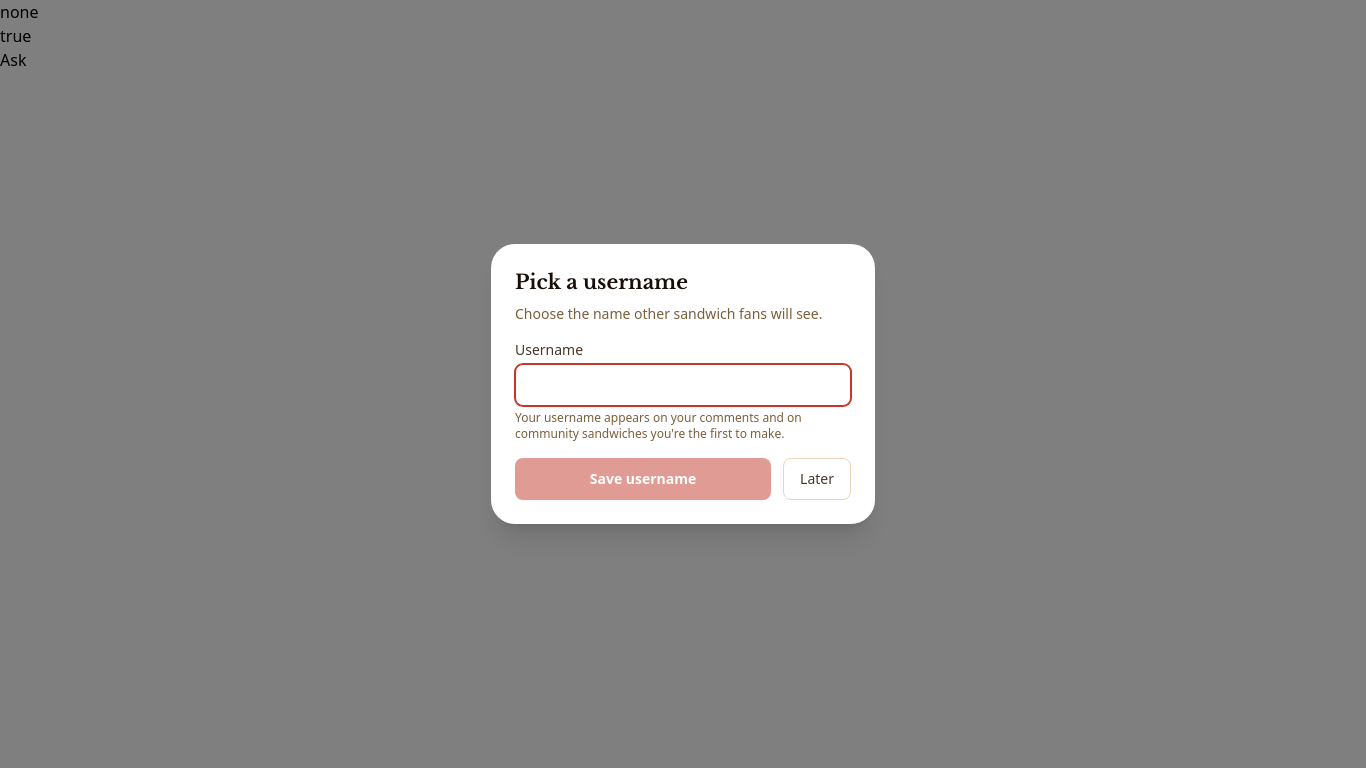
Test case: UsernameProvider for someone without a username › shows why saving failed and stays open
The width and height of the screenshot is (1366, 768).
Expected: the dialog "Pick a username" is shown, top-left (491, 244), bottom-right (875, 524)
Type "sandwich_fan" into the field labelled "Username" at (683, 385), box top-left (515, 364), bottom-right (851, 406)
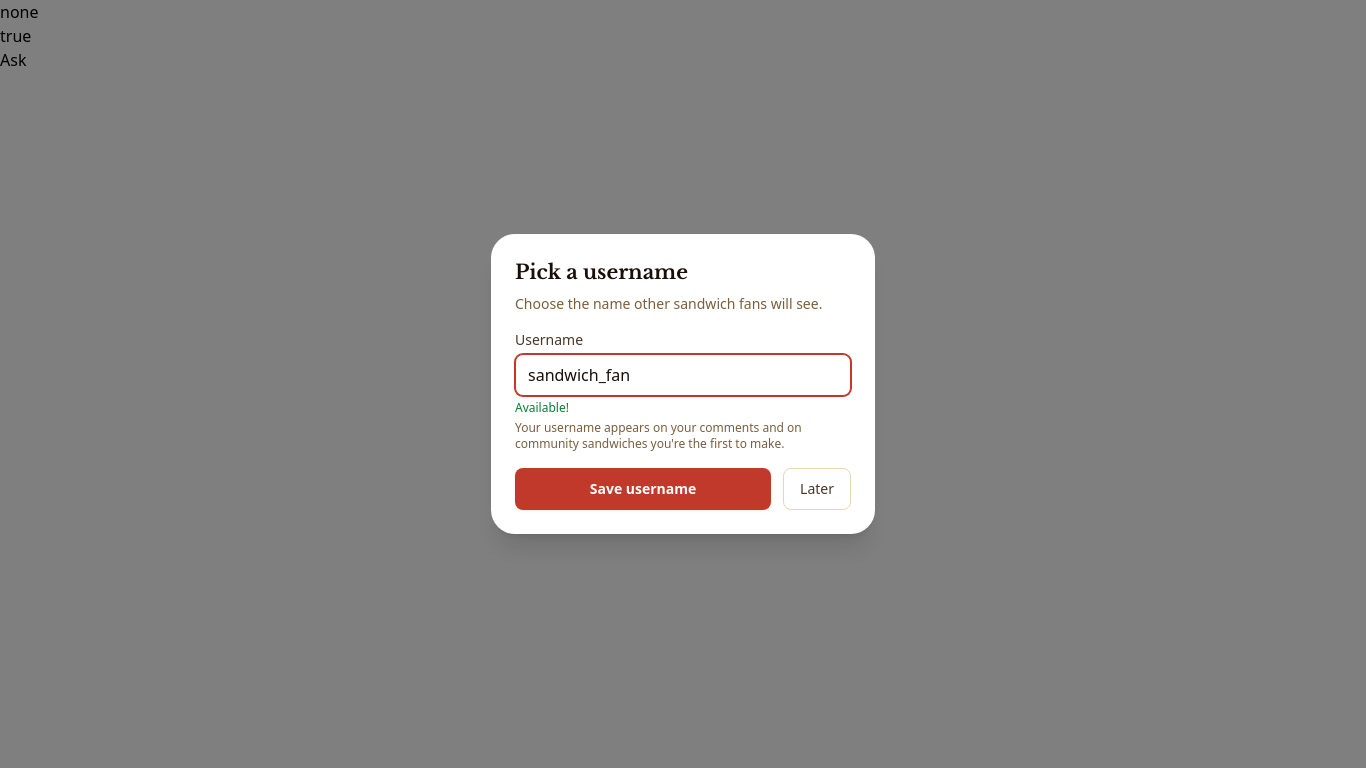
Now the text "Available!" is shown, box top-left (515, 399), bottom-right (569, 416)
Click the button "Save username" at (643, 489), box top-left (515, 468), bottom-right (771, 510)
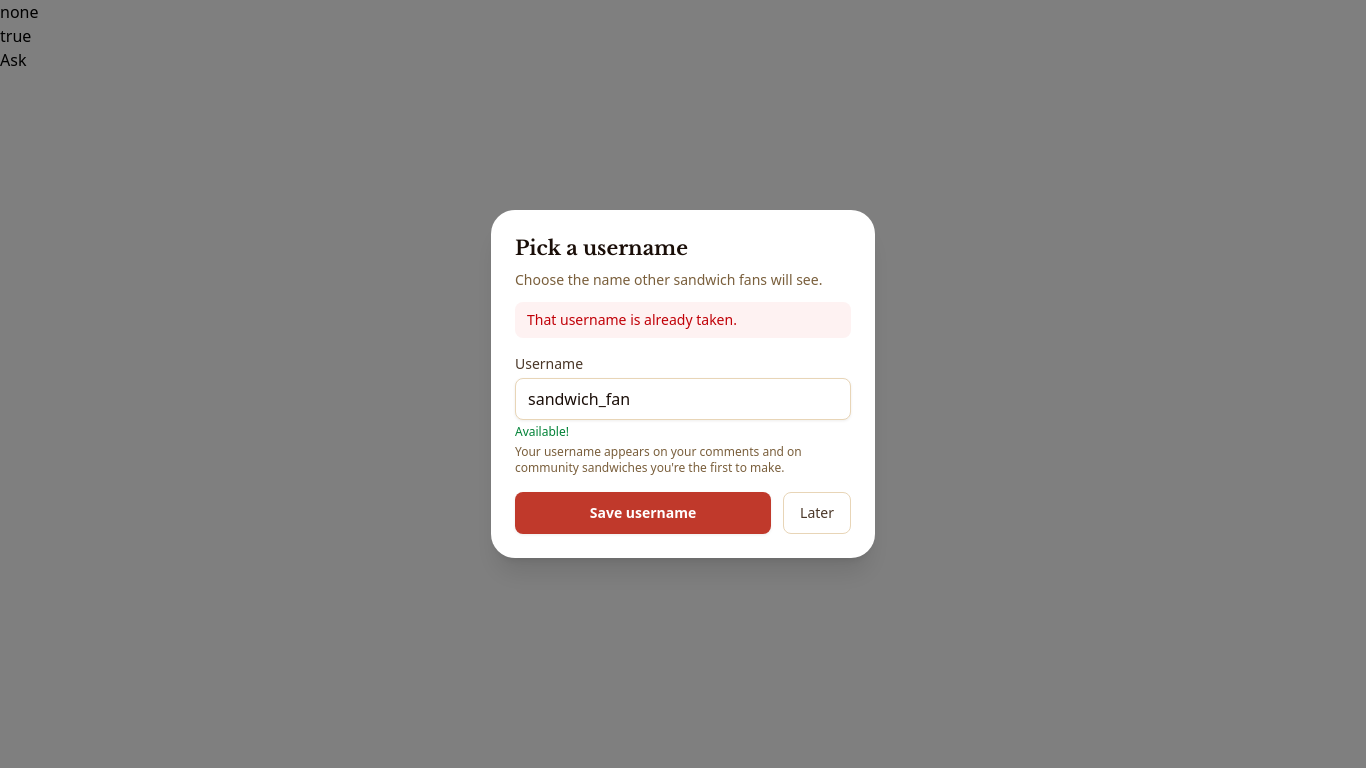
Expected: the dialog "Pick a username" is shown, top-left (491, 210), bottom-right (875, 558)
Now the message reads "That username is already taken.", box top-left (527, 310), bottom-right (737, 329)
